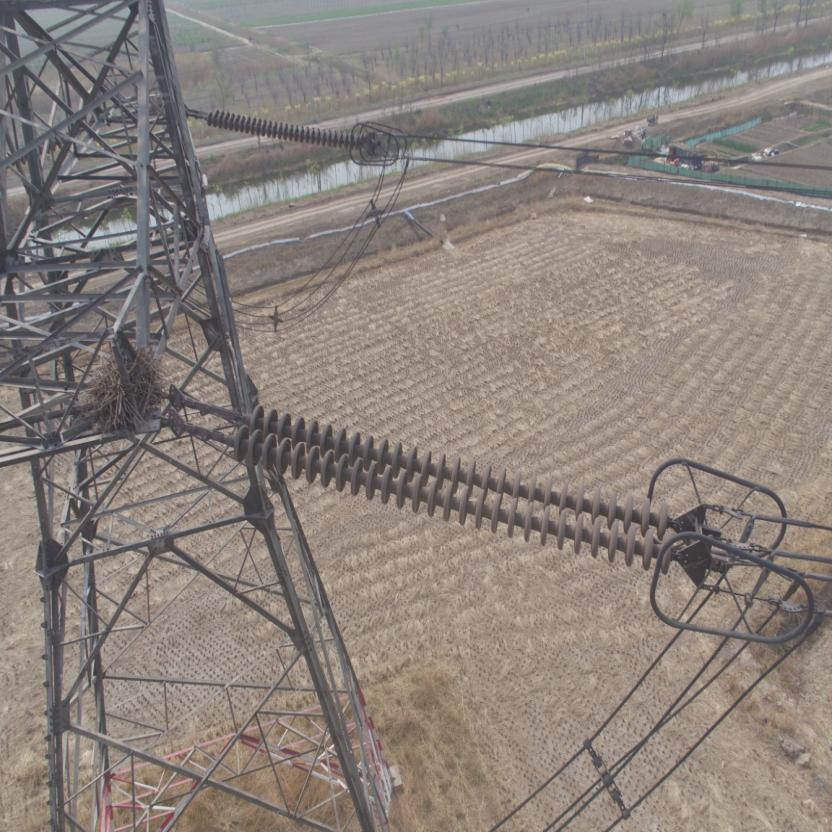insulator: (206, 401, 686, 576), (196, 104, 361, 155)
